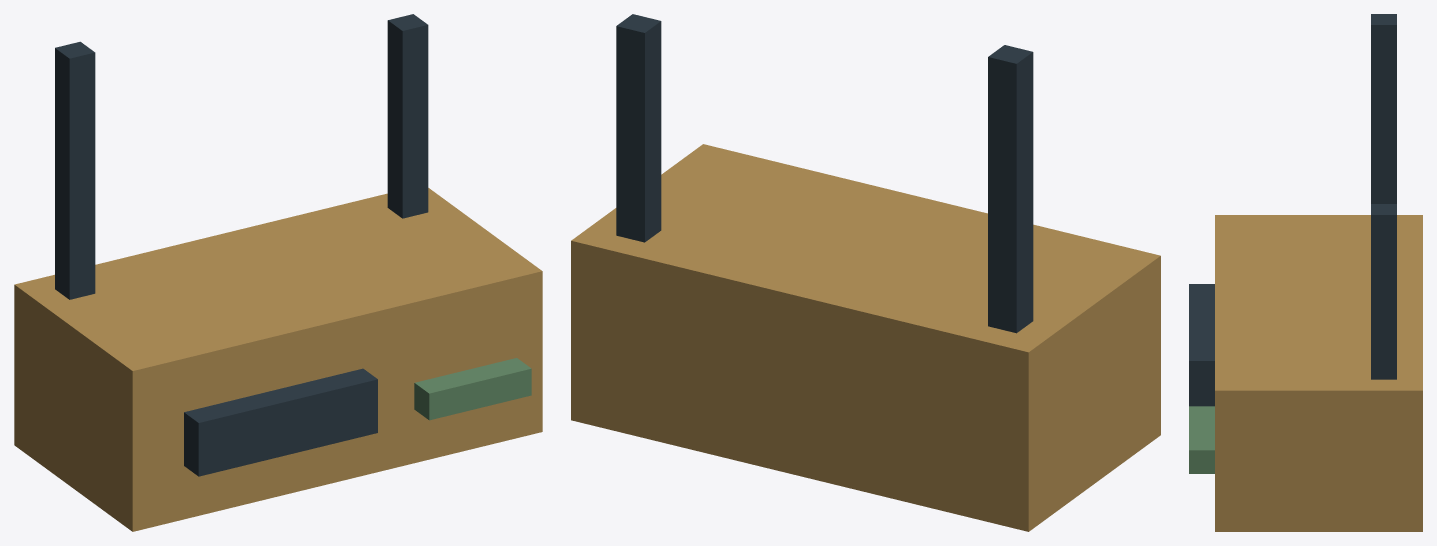
The model's file is construction-14.glb.
3 views of the same model, side by side, from view 1: azimuth 30°, elevation 25°; view 2: azimuth 150°, elevation 25°; view 3: azimuth 270°, elevation 25° (orthographic). The views are drawn at different scales.
Parts seen in each view (by area): view 1: Site radio; view 2: Site radio; view 3: Site radio.
Boxes of the visible parts, x1,y1,x2,y2 form: Site radio: (14,14,542,531); Site radio: (571,14,1160,531); Site radio: (1189,14,1422,531).
Bounding box in the file's own units: 1.28 × 1.2 × 0.72.
